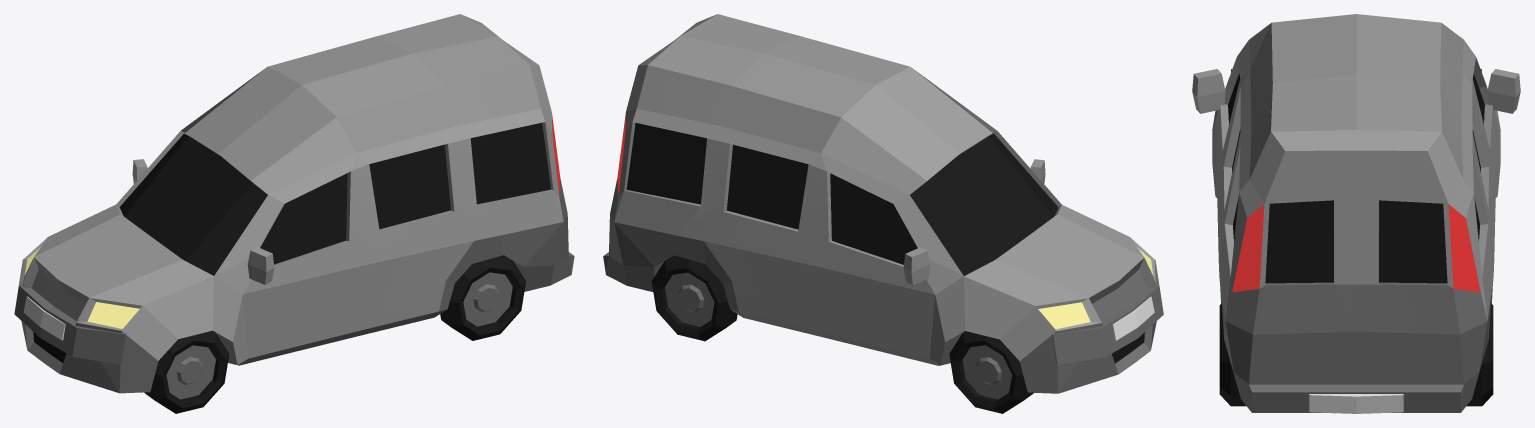
The model's file is van.glb.
The picture shows the model from 3 angles, left to right: view 1: azimuth 30°, elevation 25°; view 2: azimuth 150°, elevation 25°; view 3: azimuth 270°, elevation 25°; orthographic projection. The views are drawn at different scales.
Parts seen in each view (by area): view 1: Car_4_Silver, Wheel4_1, Wheel4_2; view 2: Car_4_Silver, Wheel4_3, Wheel4_4; view 3: Car_4_Silver, Wheel4_1, Wheel4_3.
Part boxes in pixels (<box>): Car_4_Silver: <box>14,14,574,393</box>; Wheel4_1: <box>440,255,525,340</box>; Wheel4_2: <box>144,330,229,413</box>; Car_4_Silver: <box>603,14,1163,393</box>; Wheel4_3: <box>651,255,737,341</box>; Wheel4_4: <box>949,331,1033,413</box>; Car_4_Silver: <box>1192,14,1520,413</box>; Wheel4_1: <box>1219,303,1246,406</box>; Wheel4_3: <box>1466,303,1493,406</box>.
Bounding box in the file's own units: 4.72 × 2.29 × 2.21.
5 materials, 5 textured.
